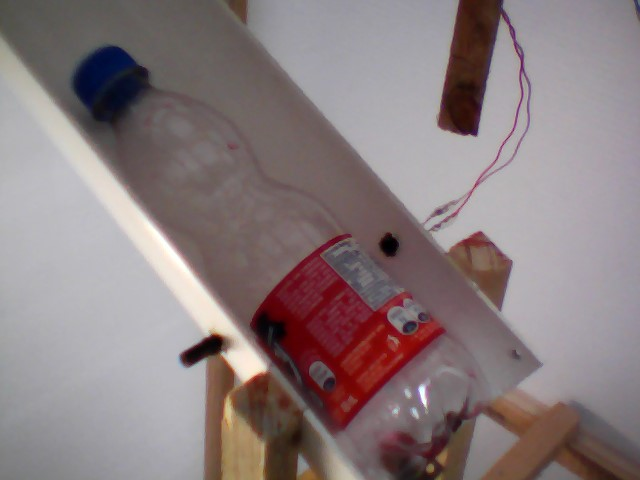plastico: (64, 40, 499, 480)
